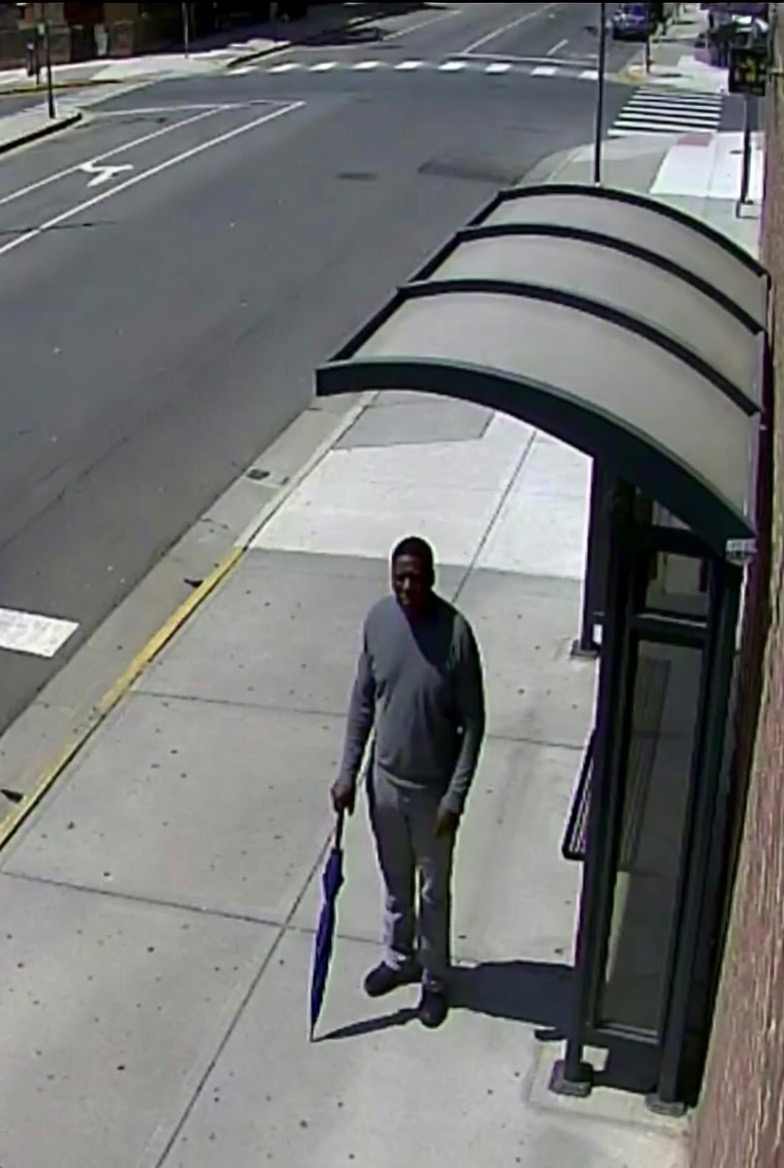person: (330, 535, 487, 1029)
umbrella: (308, 795, 348, 1040)
